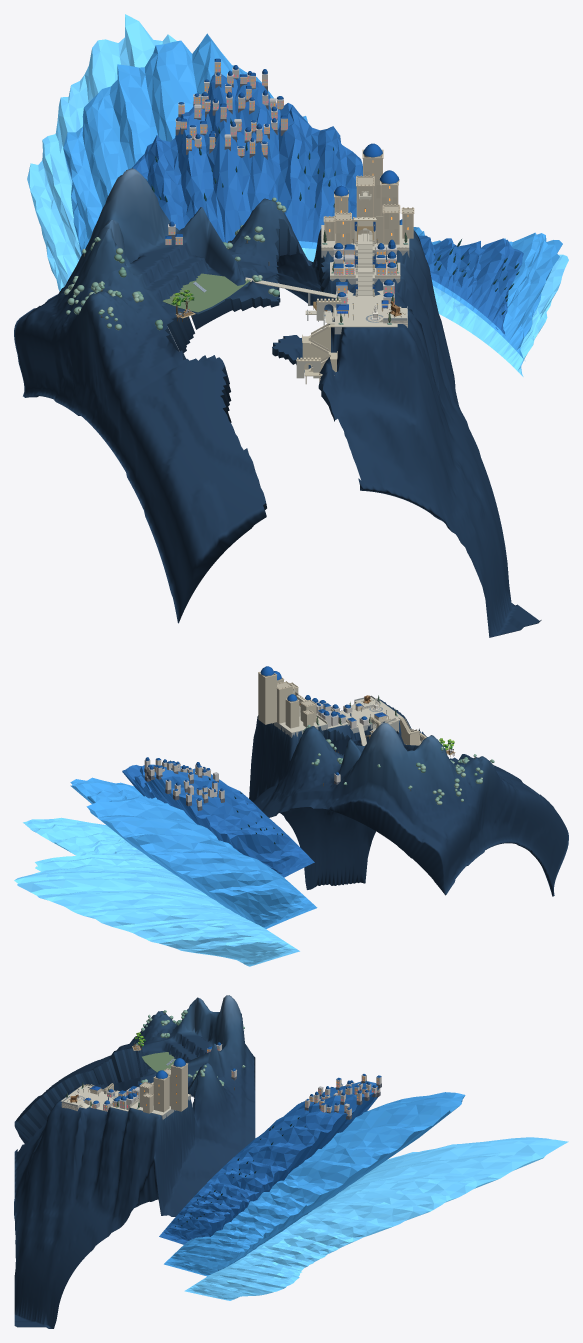
File: citadel-west-city-v1.glb
3 views of the same model, one above another, from view 1: azimuth 30°, elevation 25°; view 2: azimuth 150°, elevation 25°; view 3: azimuth 270°, elevation 25° (orthographic). The views are drawn at different scales.
Visible parts, largest first — view 1: citadel-oskar-grid-mountain-surface, citadel-backdrop-ridge-near, citadel-backdrop-ridge-mid, citadel-backdrop-ridge-far, target-castle-exterior (×3), citadel-coastal-cliff-seal, citadel-target-hillside-houses-claude-exterior-0, highland-town-foundation-platform, front-harbor-walkable, citadel-target-hillside-houses-claude-exterior-5, west-city-plaza-deck; view 2: citadel-oskar-grid-mountain-surface, citadel-backdrop-ridge-far, citadel-backdrop-ridge-mid, citadel-backdrop-ridge-near, target-castle-exterior, citadel-target-hillside-houses-claude-exterior-0, citadel-coastal-cliff-seal, citadel-target-hillside-houses-claude-exterior-5; view 3: citadel-oskar-grid-mountain-surface, citadel-backdrop-ridge-far, citadel-backdrop-ridge-mid, citadel-backdrop-ridge-near, citadel-coastal-cliff-seal, target-castle-exterior, citadel-target-hillside-houses-claude-exterior-0, highland-town-foundation-platform.
Boxes of the visible parts, x1,y1,x2,y2 form: citadel-oskar-grid-mountain-surface: [14, 168, 541, 637]; citadel-backdrop-ridge-near: [132, 74, 523, 334]; citadel-backdrop-ridge-mid: [63, 33, 562, 360]; citadel-backdrop-ridge-far: [27, 14, 568, 376]; target-castle-exterior (×3): [323, 149, 414, 245]; citadel-coastal-cliff-seal: [165, 218, 334, 515]; citadel-target-hillside-houses-claude-exterior-0: [165, 62, 287, 244]; highland-town-foundation-platform: [163, 273, 250, 312]; front-harbor-walkable: [302, 324, 341, 376]; citadel-target-hillside-houses-claude-exterior-5: [165, 58, 287, 238]; west-city-plaza-deck: [334, 306, 397, 326]; citadel-oskar-grid-mountain-surface: [249, 699, 568, 896]; citadel-backdrop-ridge-far: [14, 817, 299, 966]; citadel-backdrop-ridge-mid: [70, 777, 317, 928]; citadel-backdrop-ridge-near: [122, 764, 314, 877]; target-castle-exterior: [258, 672, 316, 728]; citadel-target-hillside-houses-claude-exterior-0: [144, 761, 340, 806]; citadel-coastal-cliff-seal: [298, 721, 469, 760]; citadel-target-hillside-houses-claude-exterior-5: [145, 757, 339, 800]; citadel-oskar-grid-mountain-surface: [14, 995, 255, 1328]; citadel-backdrop-ridge-far: [184, 1137, 568, 1300]; citadel-backdrop-ridge-mid: [164, 1092, 465, 1276]; citadel-backdrop-ridge-near: [159, 1081, 378, 1244]; citadel-coastal-cliff-seal: [15, 1047, 197, 1138]; target-castle-exterior: [139, 1063, 187, 1113]; citadel-target-hillside-houses-claude-exterior-0: [216, 1045, 381, 1116]; highland-town-foundation-platform: [142, 1052, 175, 1072].
Bounding box in the file's own units: 326 × 217 × 425.
129 materials, 1 textured.
